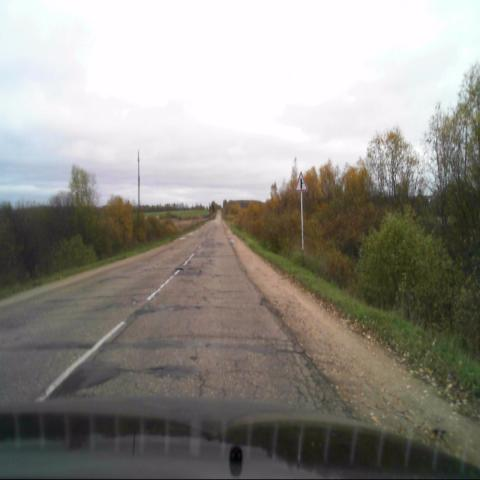2_3_2: (294, 171, 308, 192)
